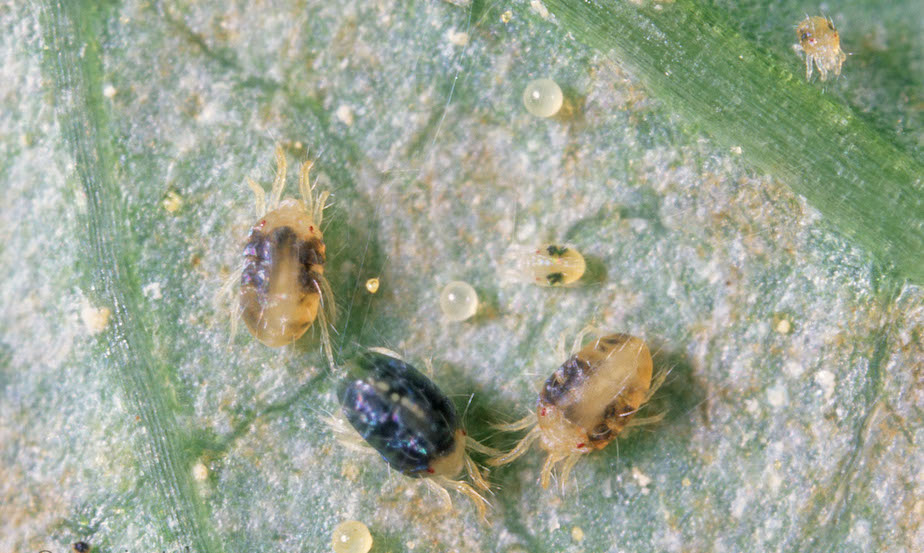Mites: (502, 316, 675, 504), (208, 142, 344, 340), (338, 317, 454, 484)
